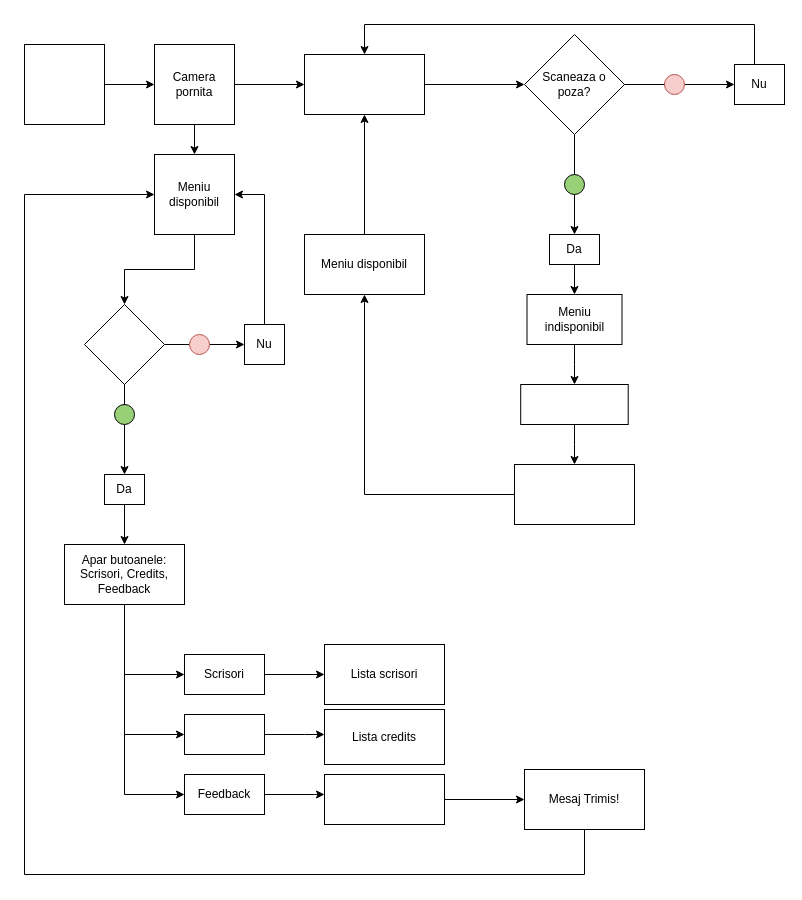
The diagram is 802 pixels wide and 900 high, and some of its shapes have lost their labels. The box of each missing label's shape, as (x1, y1, x2, y2) in pixels:
Apasa pe meniu?: (84, 304, 164, 384)
Credits: (184, 714, 264, 754)
Input feedback: (324, 774, 444, 824)
Ruleaza videoclip: (520, 384, 628, 424)
Scanare pornita: (304, 54, 424, 114)
Splash Screen: (24, 44, 104, 124)
Videoclipul s-a incheiat: (514, 464, 634, 524)
